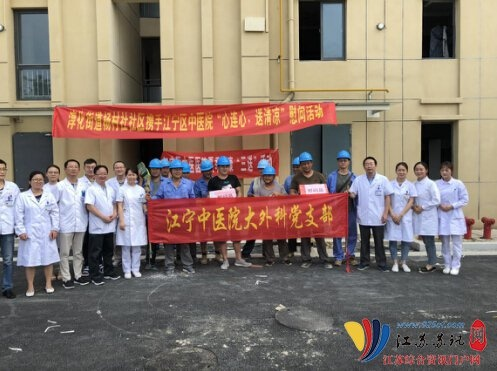blue: (335, 148, 351, 169), (298, 150, 313, 172), (168, 158, 183, 178), (216, 154, 230, 175), (260, 165, 275, 184), (199, 157, 213, 177), (148, 158, 160, 177), (290, 155, 302, 174), (159, 158, 170, 176)
none: (62, 158, 80, 178), (28, 170, 44, 191), (44, 162, 60, 182), (361, 155, 378, 173), (411, 160, 427, 179), (93, 163, 109, 182), (438, 160, 453, 179), (111, 159, 126, 177), (394, 160, 408, 179), (82, 157, 96, 176), (124, 166, 139, 183), (1, 159, 7, 182)
